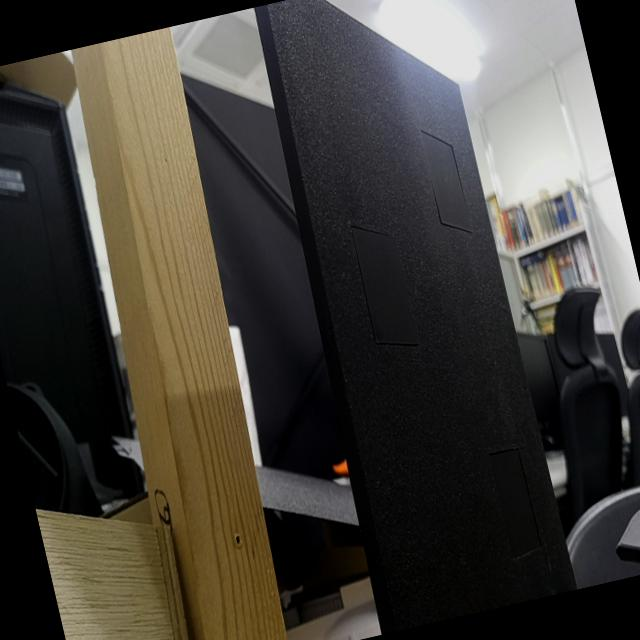Wall: (266, 0, 578, 630)
